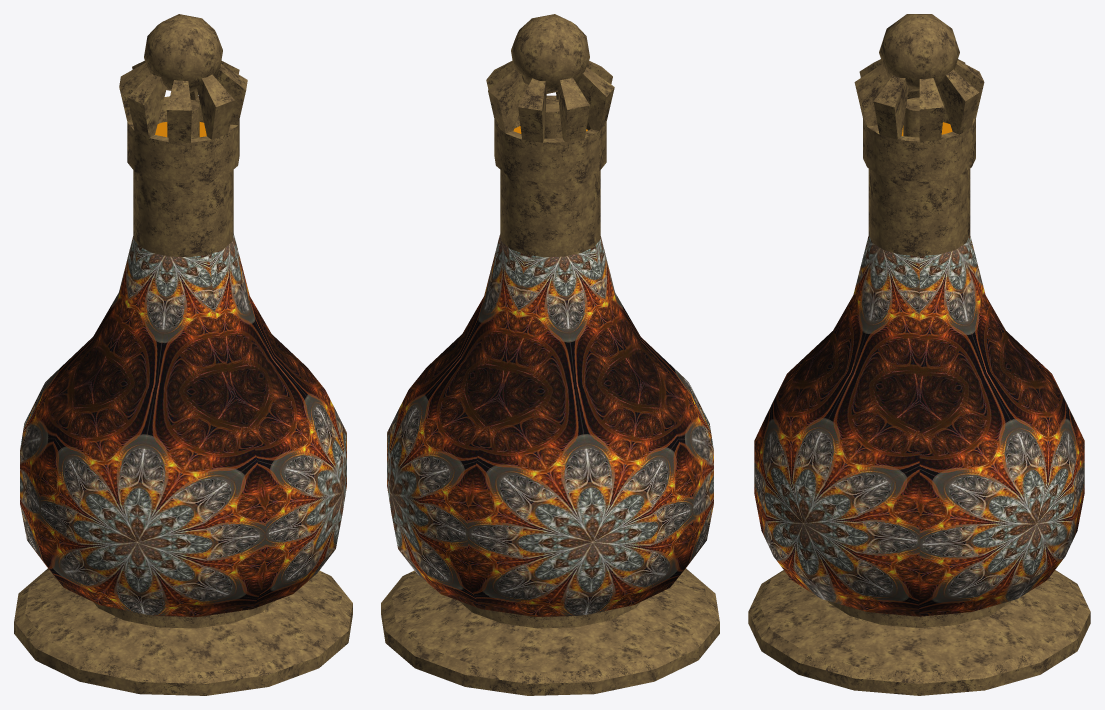
Rendered from hallucense.fbx.
The picture shows the model from 3 angles, left to right: view 1: azimuth 30°, elevation 25°; view 2: azimuth 150°, elevation 25°; view 3: azimuth 270°, elevation 25°; orthographic projection.
Visible parts, largest first — view 1: Cylinder; view 2: Cylinder; view 3: Cylinder.
Part boxes in pixels (x1,y1,x2,y2): Cylinder: [14, 14, 352, 695]; Cylinder: [381, 14, 719, 695]; Cylinder: [748, 14, 1090, 695].
Size of the model in its own units: 200 by 392 by 200.
Materials: 3 (2 with a texture image).
